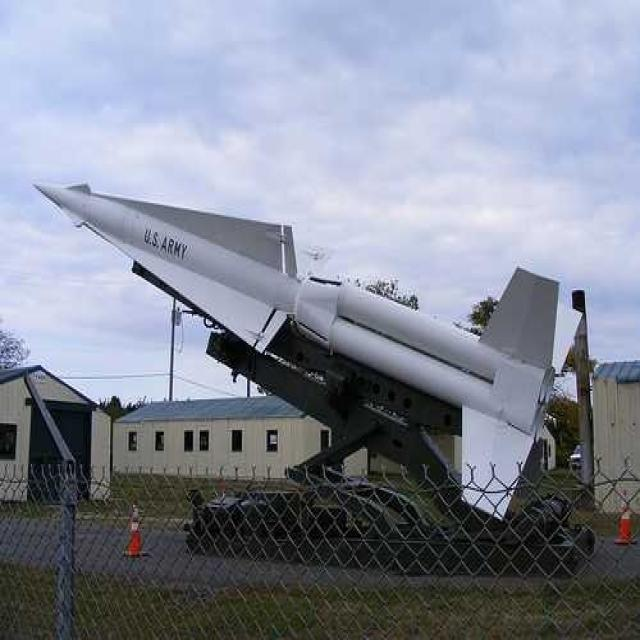missile: (33, 176, 566, 531)
